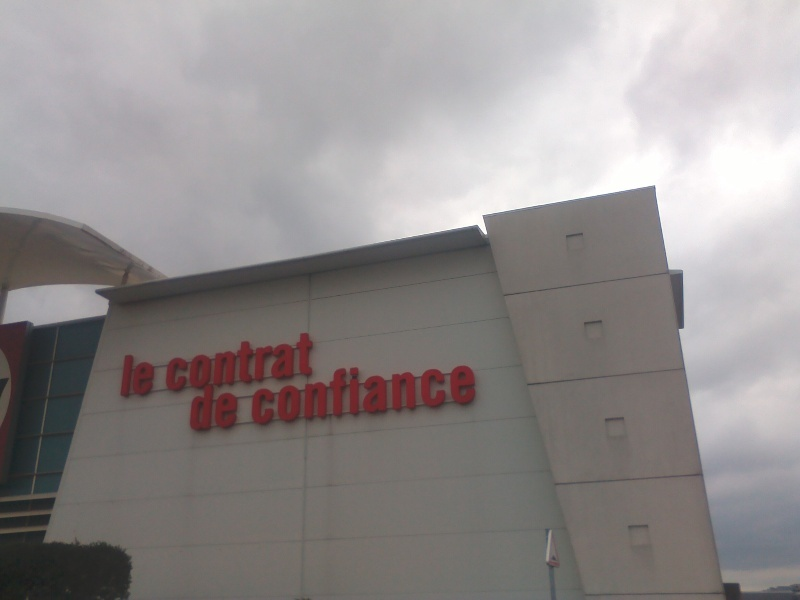text: (257, 347, 272, 427), (273, 347, 288, 427), (289, 347, 304, 427), (305, 347, 320, 427), (321, 347, 336, 427), (337, 347, 352, 427), (353, 347, 368, 427), (369, 347, 384, 427), (385, 347, 400, 427), (401, 347, 416, 427), (417, 347, 432, 427), (433, 347, 448, 427), (449, 347, 464, 427), (177, 331, 192, 393), (193, 331, 208, 393), (209, 331, 224, 393), (225, 331, 240, 393), (241, 331, 256, 393), (257, 331, 272, 393), (273, 331, 288, 393), (289, 331, 304, 393), (465, 347, 476, 427), (305, 331, 317, 393), (193, 382, 208, 430), (209, 382, 224, 430), (129, 355, 144, 397), (225, 382, 238, 430), (145, 355, 156, 397), (169, 331, 176, 393), (251, 347, 256, 427), (124, 355, 128, 397)
